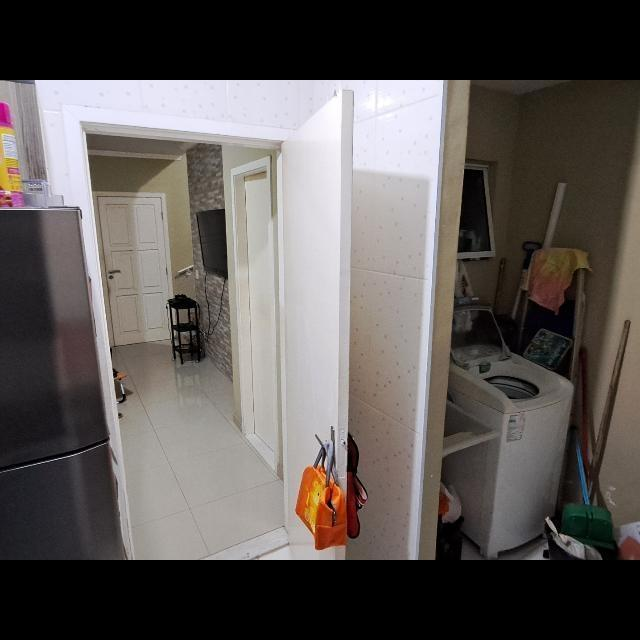door: (268, 88, 366, 560), (98, 186, 180, 352)
